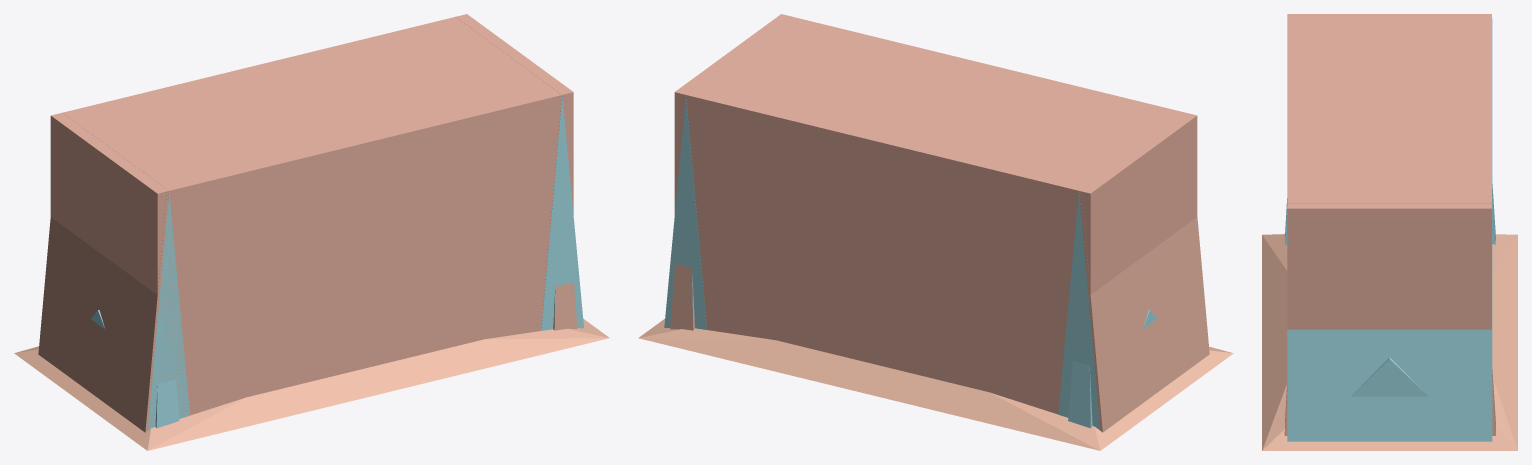
File: barbedwire.glb
3 views of the same model, side by side, from view 1: azimuth 30°, elevation 25°; view 2: azimuth 150°, elevation 25°; view 3: azimuth 270°, elevation 25° (orthographic). The views are drawn at different scales.
Parts seen in each view (by area): view 1: S5|SM_BarbedWireFence_Stage5#0, S3|SM_BarbedWireFence_Stage3#0, S1|SM_BarbedWireFence_Stage1#0, S4|SM_BarbedWireFence_Stage4#0, S2|SM_BarbedWireFence_Stage2#0; view 2: S5|SM_BarbedWireFence_Stage5#0, S3|SM_BarbedWireFence_Stage3#0, S1|SM_BarbedWireFence_Stage1#0, S4|SM_BarbedWireFence_Stage4#0, S2|SM_BarbedWireFence_Stage2#0; view 3: S5|SM_BarbedWireFence_Stage5#0, S4|SM_BarbedWireFence_Stage4#0, S1|SM_BarbedWireFence_Stage1#0, S3|SM_BarbedWireFence_Stage3#0, S2|SM_BarbedWireFence_Stage2#0.
Boxes of the visible parts, x1,y1,x2,y2 form: S5|SM_BarbedWireFence_Stage5#0: (50,14,573,428); S3|SM_BarbedWireFence_Stage3#0: (38,192,577,432); S1|SM_BarbedWireFence_Stage1#0: (14,319,609,450); S4|SM_BarbedWireFence_Stage4#0: (91,27,583,430); S2|SM_BarbedWireFence_Stage2#0: (155,290,555,428); S5|SM_BarbedWireFence_Stage5#0: (674,14,1197,414); S3|SM_BarbedWireFence_Stage3#0: (670,193,1209,432); S1|SM_BarbedWireFence_Stage1#0: (638,319,1233,450); S4|SM_BarbedWireFence_Stage4#0: (664,17,1157,430); S2|SM_BarbedWireFence_Stage2#0: (692,275,1092,428); S5|SM_BarbedWireFence_Stage5#0: (1287,14,1491,329); S4|SM_BarbedWireFence_Stage4#0: (1287,19,1492,441); S1|SM_BarbedWireFence_Stage1#0: (1262,234,1517,450); S3|SM_BarbedWireFence_Stage3#0: (1284,18,1495,435); S2|SM_BarbedWireFence_Stage2#0: (1285,184,1495,245).
Bounding box in the file's own units: 3 × 1.5 × 1.5.
